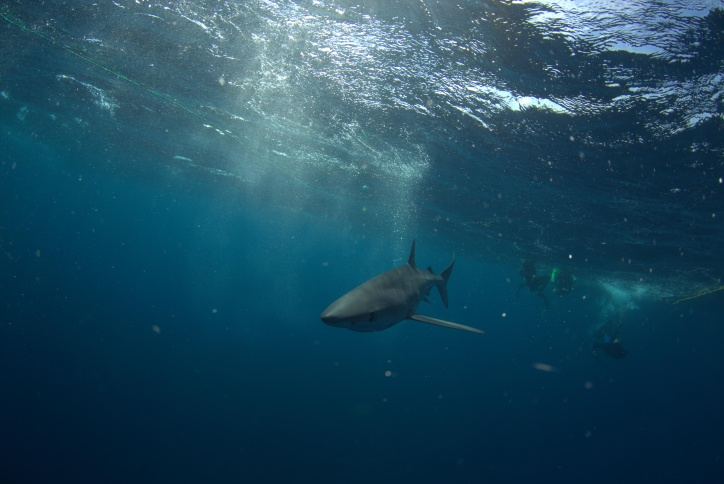Azul: (286, 227, 492, 358)
